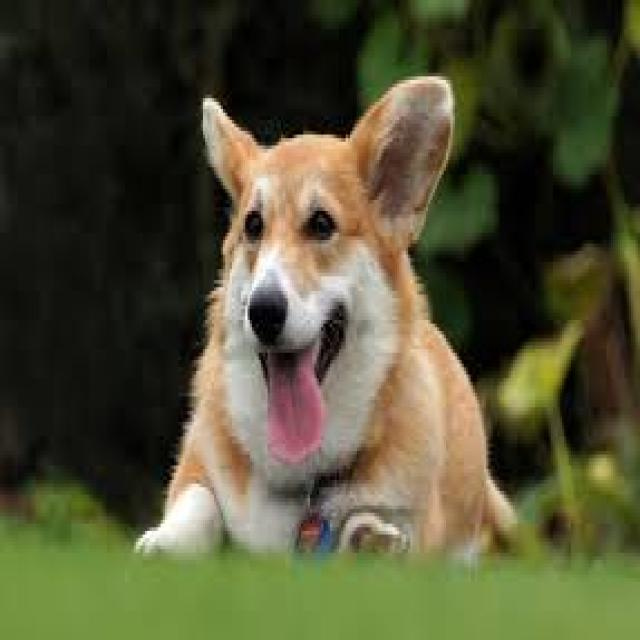CORGI: (132, 89, 522, 588)
